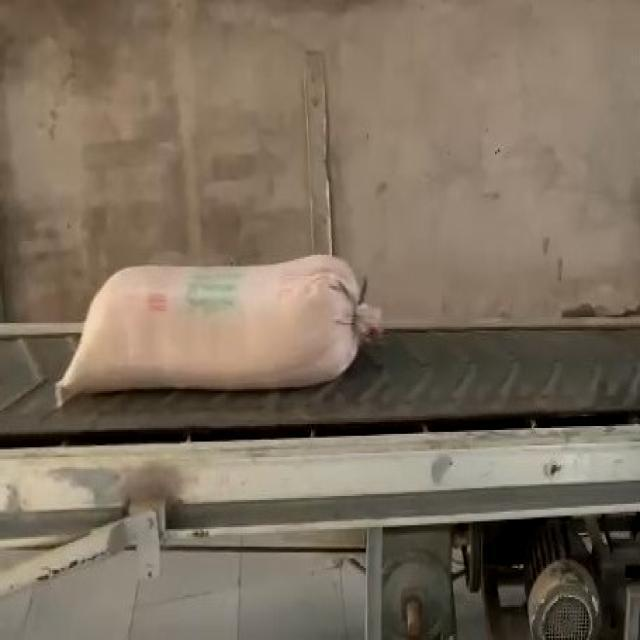gunny_bag: (53, 255, 380, 406)
